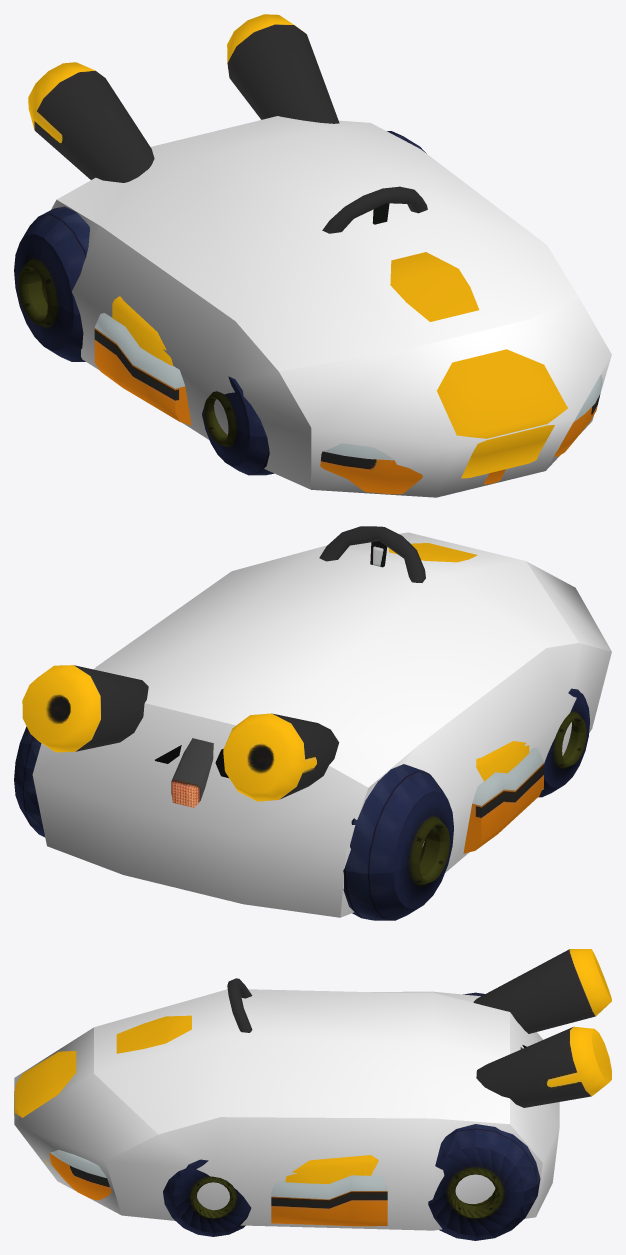
Rendered from kart-transformed.glb.
The picture shows the model from 3 angles, top to bottom: view 1: azimuth 30°, elevation 25°; view 2: azimuth 150°, elevation 25°; view 3: azimuth 270°, elevation 25°; orthographic projection. The views are drawn at different scales.
Parts seen in each view (by area): view 1: shape, body, wheel_2; view 2: shape, body, wheel_2; view 3: shape, body, wheel_2.
Boxes of the visible parts, <box> form: shape: <box>51,116,611,497</box>; body: <box>28,14,602,494</box>; wheel_2: <box>14,131,426,475</box>; shape: <box>32,532,611,917</box>; body: <box>22,526,543,853</box>; wheel_2: <box>14,688,589,920</box>; shape: <box>14,989,559,1230</box>; body: <box>14,949,611,1226</box>; wheel_2: <box>163,992,540,1240</box>.
Size of the model in its own units: 20.02 by 11.48 by 31.93.
Materials: 3 (2 with a texture image).
